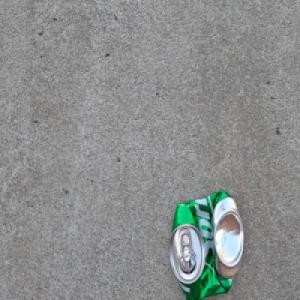SodaCan: (168, 189, 244, 300)
